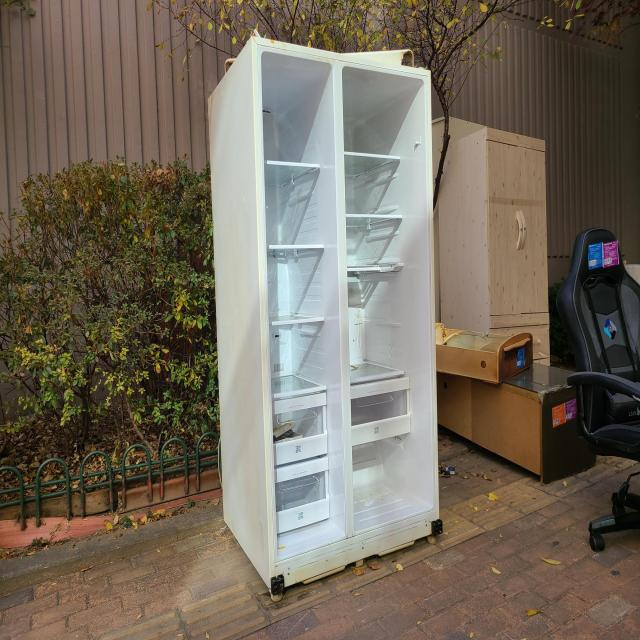refrigerator: (206, 32, 445, 605)
